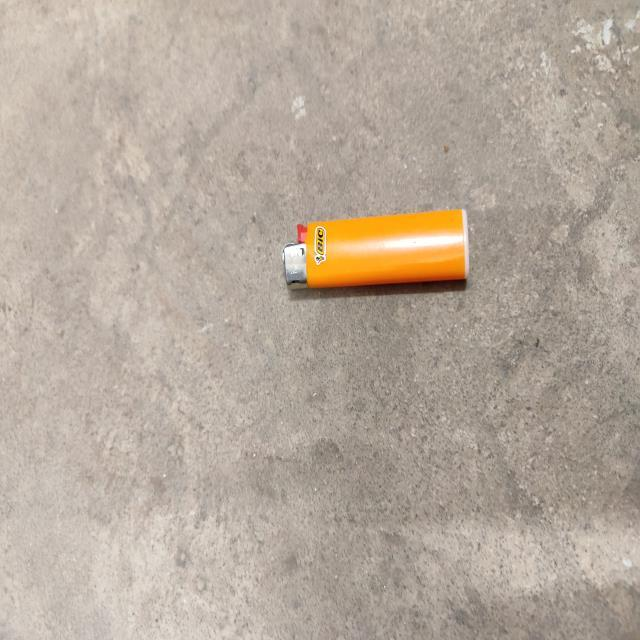lighter: (283, 209, 468, 288)
